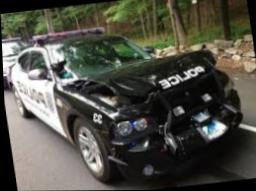Bonnet: (64, 50, 217, 107)
Bumper: (105, 92, 243, 182)
Fender: (75, 97, 119, 145)
